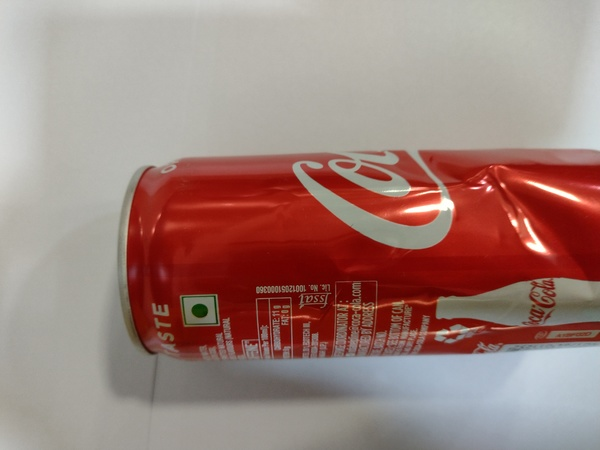can: (103, 142, 600, 376)
